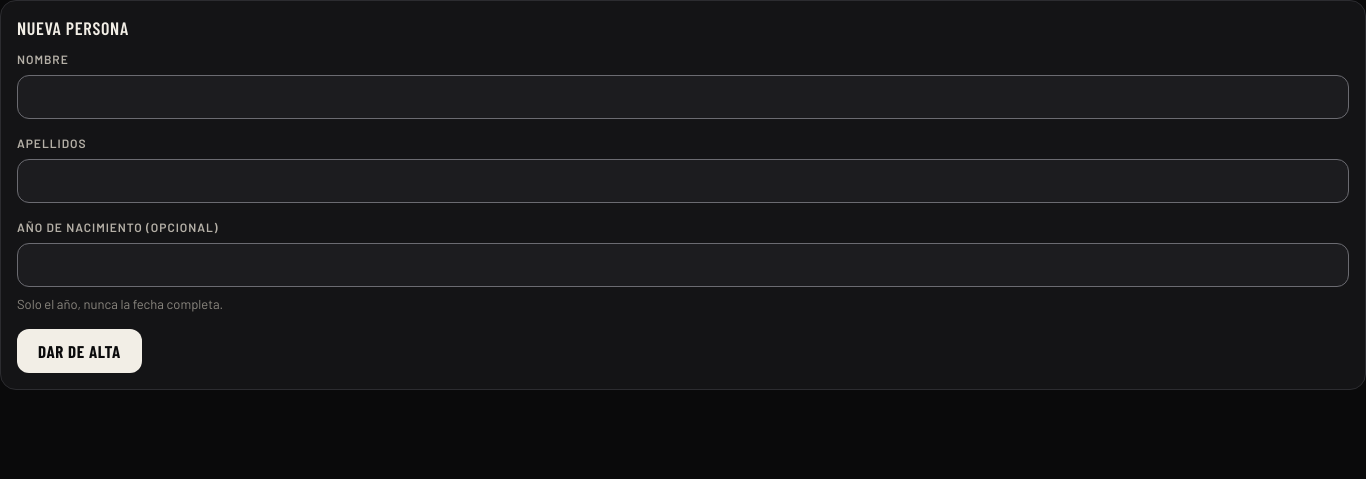
Test: PersonEditor · una persona nueva › si no se puede guardar, lo dice sin el error técnico y no pierde lo escrito
Type "Ana" into the field labelled "Nombre".
click(683, 97); type("Ana")  # box [17,75,1349,119]
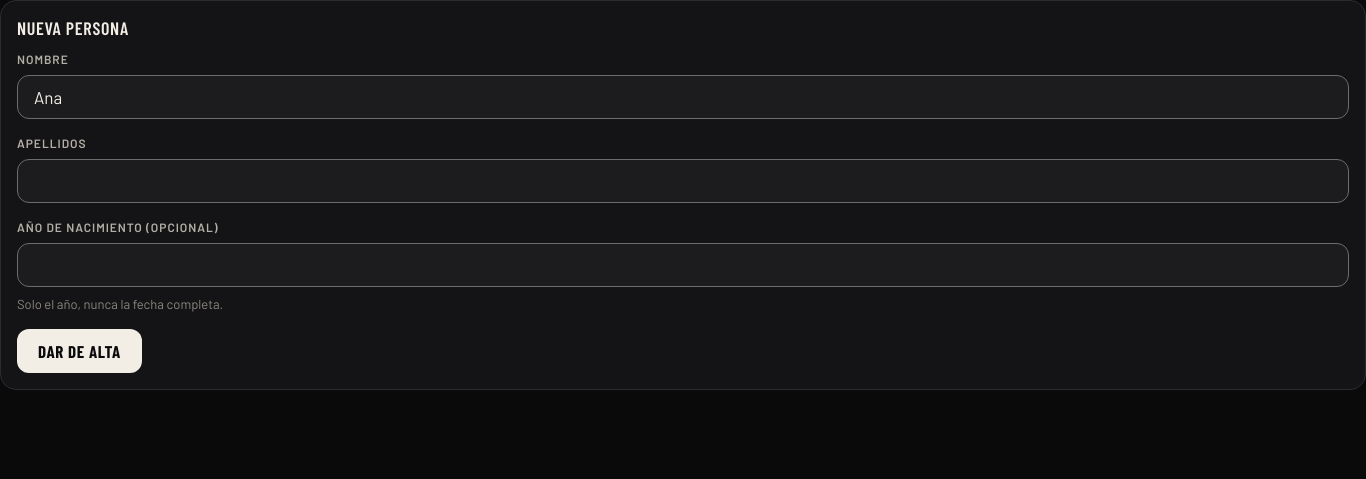
Click the button "Dar de alta".
click(80, 351)  # box [17,329,142,373]
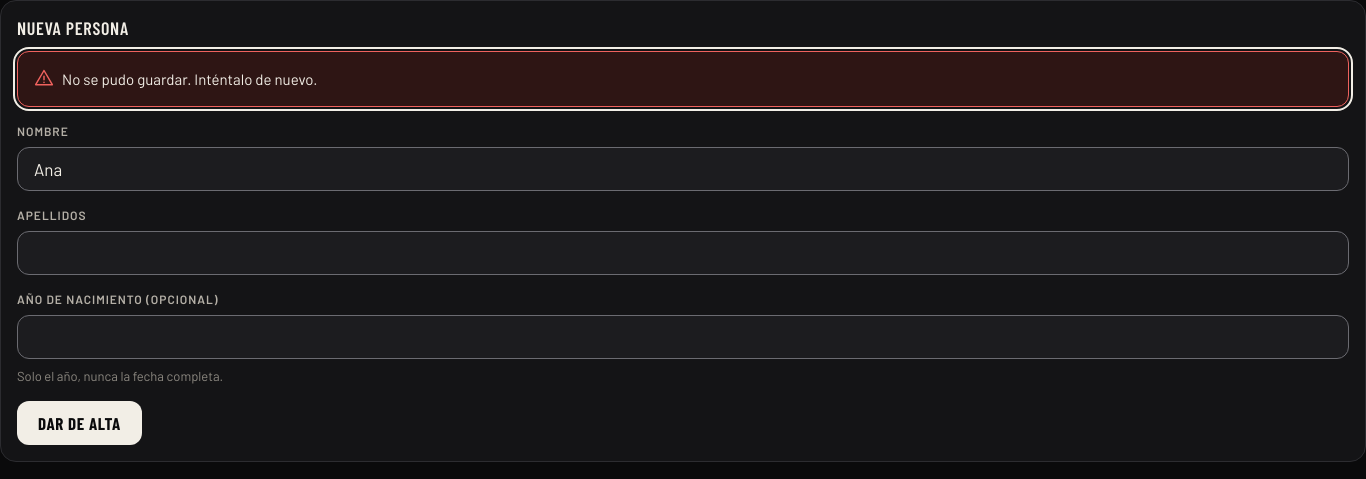
Expected: the message does not show "fetch failed", [17,51,1349,107]
Now the message reads "No se pudo guardar. Inténtalo de nuevo.", box [62,70,318,88]
